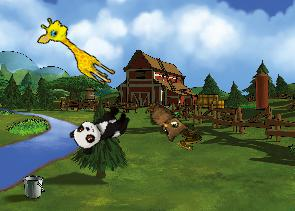giraffe: (32, 13, 123, 89)
owl: (137, 99, 191, 146)
panda: (67, 99, 134, 158)
